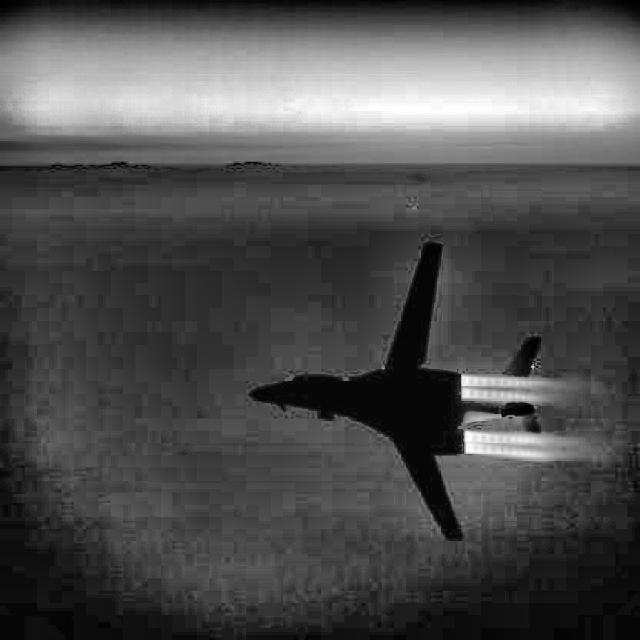B1: (248, 240, 544, 542)
